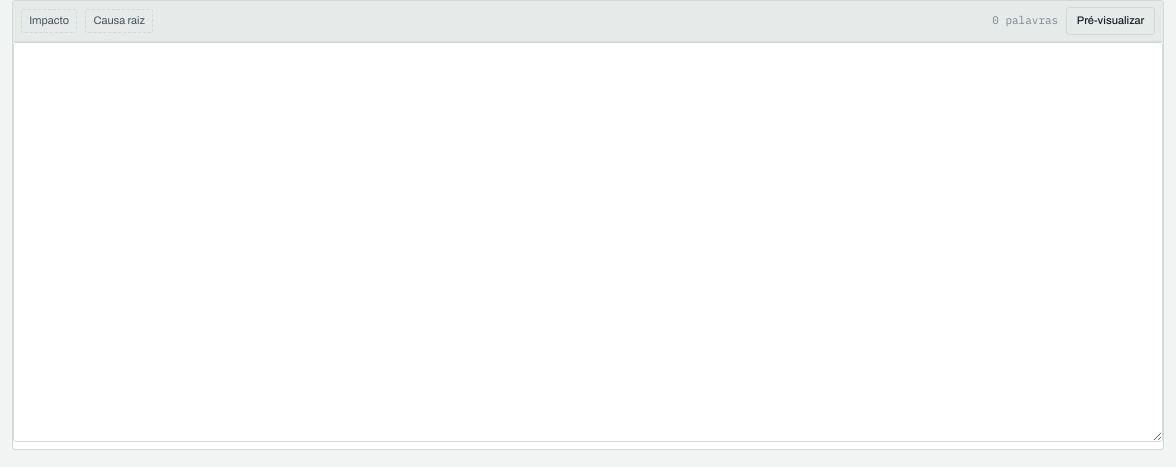
MarkdownEditor › insere a seção obrigatória com um clique e marca que ela já existe
This screenshot has width=1176, height=467.
Click the button "Impacto": (49, 21) [21,9,77,33]
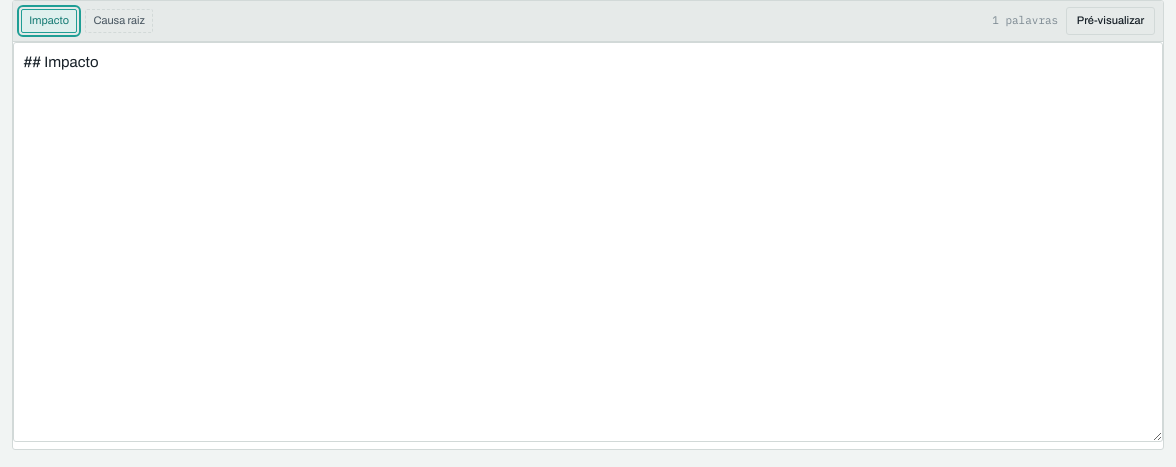
Expected: the text box holds "## Impacto "
